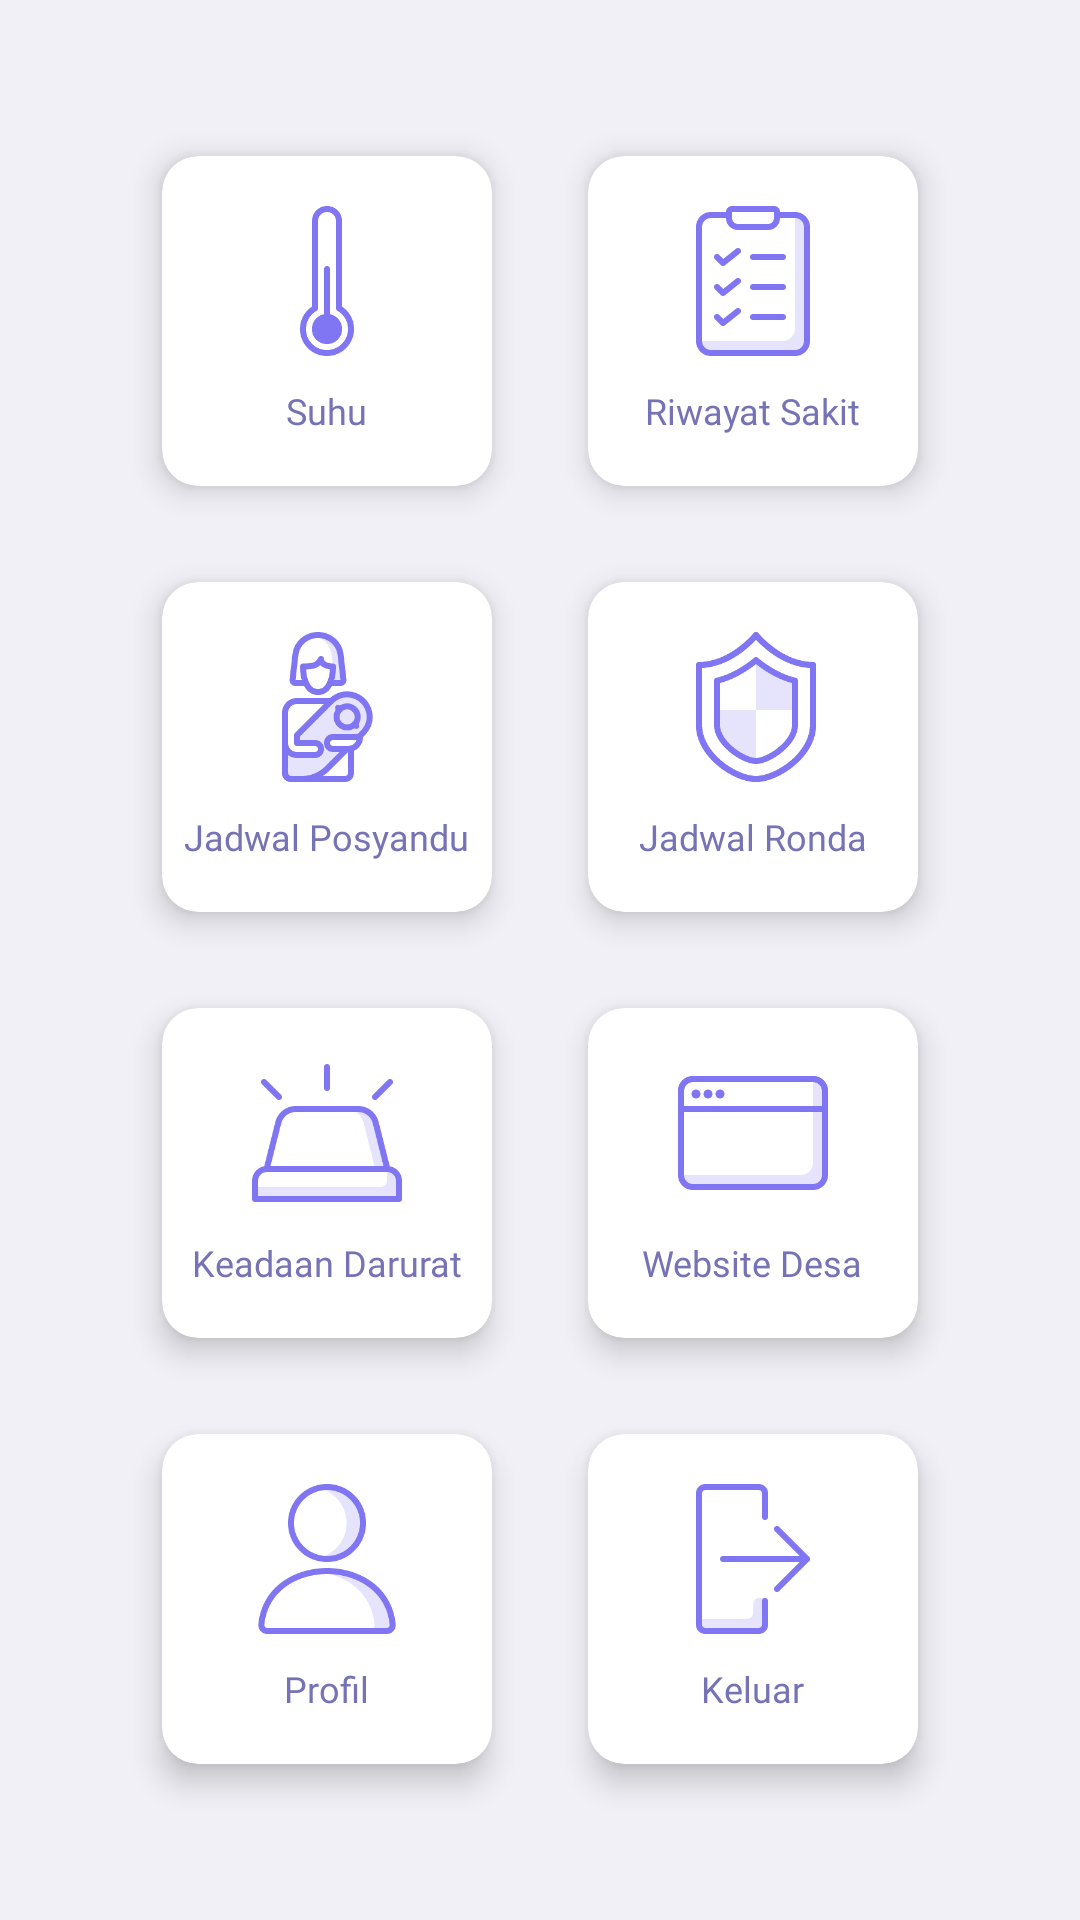

Icons on this 1080 × 1920 Android screen, each with the point to tap as [x,y]:
akun: [327,1559]
keamanan: [756,707]
